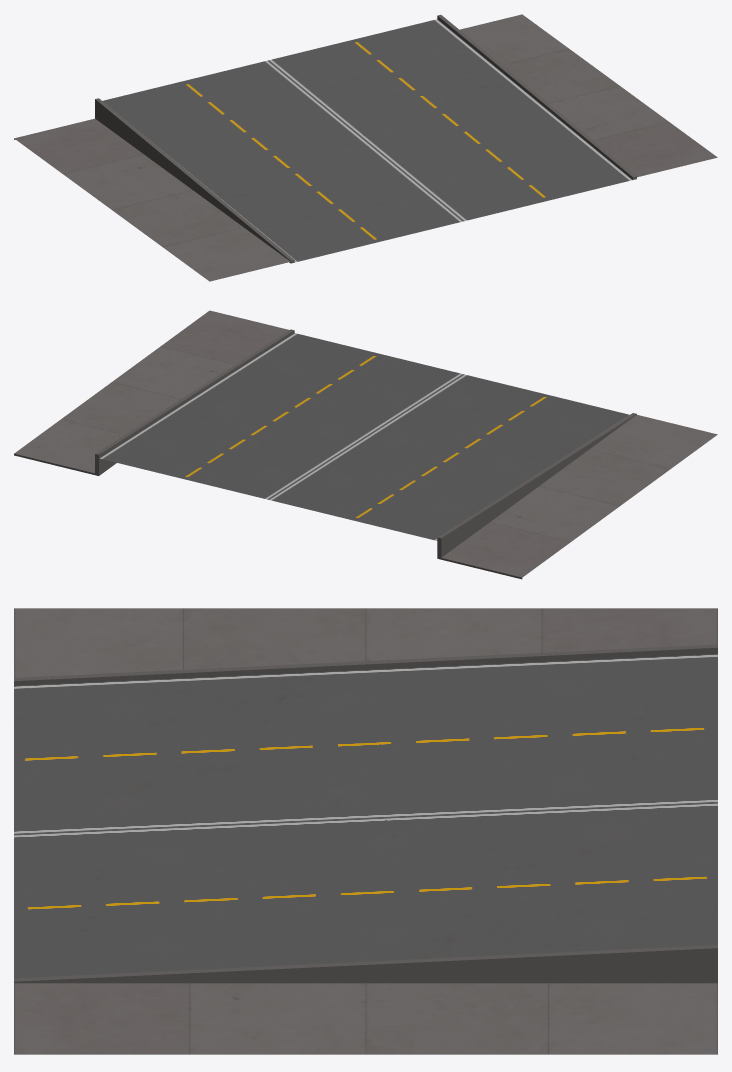
Rendered from SM_Floor_Road_22.fbx.
3 renders of one model, top to bottom at view 1: azimuth 30°, elevation 25°; view 2: azimuth 150°, elevation 25°; view 3: azimuth 270°, elevation 25°, orthographic. The views are drawn at different scales.
Visible parts, largest first — view 1: SM_Floor_Road_22; view 2: SM_Floor_Road_22; view 3: SM_Floor_Road_22.
Part boxes in pixels (left/top/right/bottom): SM_Floor_Road_22: left=14, top=14, right=717, bottom=281; SM_Floor_Road_22: left=14, top=310, right=717, bottom=579; SM_Floor_Road_22: left=14, top=608, right=717, bottom=1054.
Bounding box in the file's own units: 15 × 0.6 × 10.
